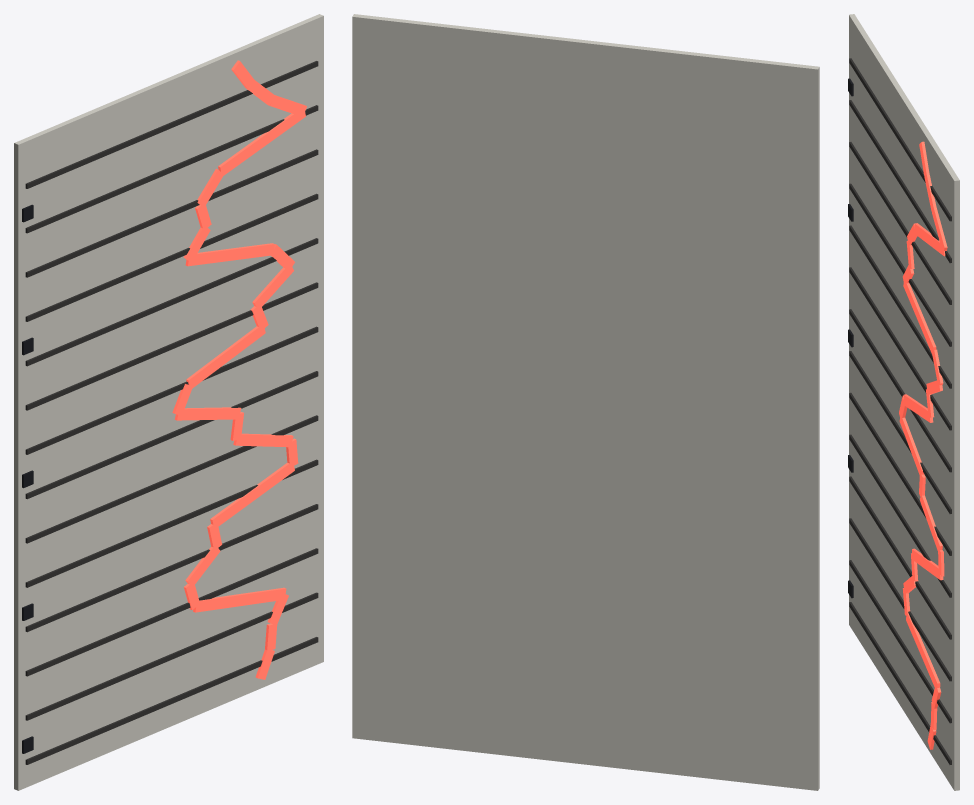
File: tape.glb
3 views of the same model, side by side, from view 1: azimuth 30°, elevation 25°; view 2: azimuth 150°, elevation 25°; view 3: azimuth 270°, elevation 25° (orthographic). The views are drawn at different scales.
Parts seen in each view (by area): view 1: log_ribbon, log_rule_8, log_rule_0, log_rule_1, log_rule_3, log_rule_2, log_rule_9, log_rule_11, log_rule_13, log_rule_10, log_rule_5, log_rule_7 (+11 smaller); view 2: log_ribbon; view 3: log_ribbon, log_rule_8, log_rule_3, log_rule_0, log_rule_1, log_rule_11, log_rule_10, log_rule_2, log_rule_9, log_rule_13, log_rule_12, log_rule_7 (+11 smaller).
Boxes of the visible parts, left/top/right/bottom form: log_ribbon: left=14, top=14, right=323, bottom=790; log_rule_8: left=25, top=282, right=318, bottom=410; log_rule_0: left=25, top=637, right=318, bottom=764; log_rule_1: left=25, top=592, right=318, bottom=720; log_rule_3: left=25, top=504, right=318, bottom=632; log_rule_2: left=25, top=548, right=318, bottom=676; log_rule_9: left=25, top=238, right=318, bottom=366; log_rule_11: left=25, top=149, right=318, bottom=277; log_rule_13: left=25, top=61, right=318, bottom=188; log_rule_10: left=25, top=193, right=318, bottom=321; log_rule_5: left=25, top=415, right=318, bottom=543; log_rule_7: left=25, top=326, right=318, bottom=454; log_ribbon: left=352, top=14, right=819, bottom=790; log_ribbon: left=849, top=14, right=959, bottom=790; log_rule_8: left=849, top=267, right=951, bottom=430; log_rule_3: left=849, top=476, right=951, bottom=639; log_rule_0: left=849, top=602, right=951, bottom=764; log_rule_1: left=849, top=560, right=951, bottom=723; log_rule_11: left=849, top=142, right=951, bottom=304; log_rule_10: left=849, top=183, right=951, bottom=346; log_rule_2: left=849, top=518, right=951, bottom=681; log_rule_9: left=849, top=225, right=951, bottom=388; log_rule_13: left=849, top=58, right=951, bottom=221; log_rule_12: left=849, top=100, right=951, bottom=263; log_rule_7: left=849, top=309, right=951, bottom=472.
Size of the model in its own units: 0.2056 by 0.35 by 0.0582.
